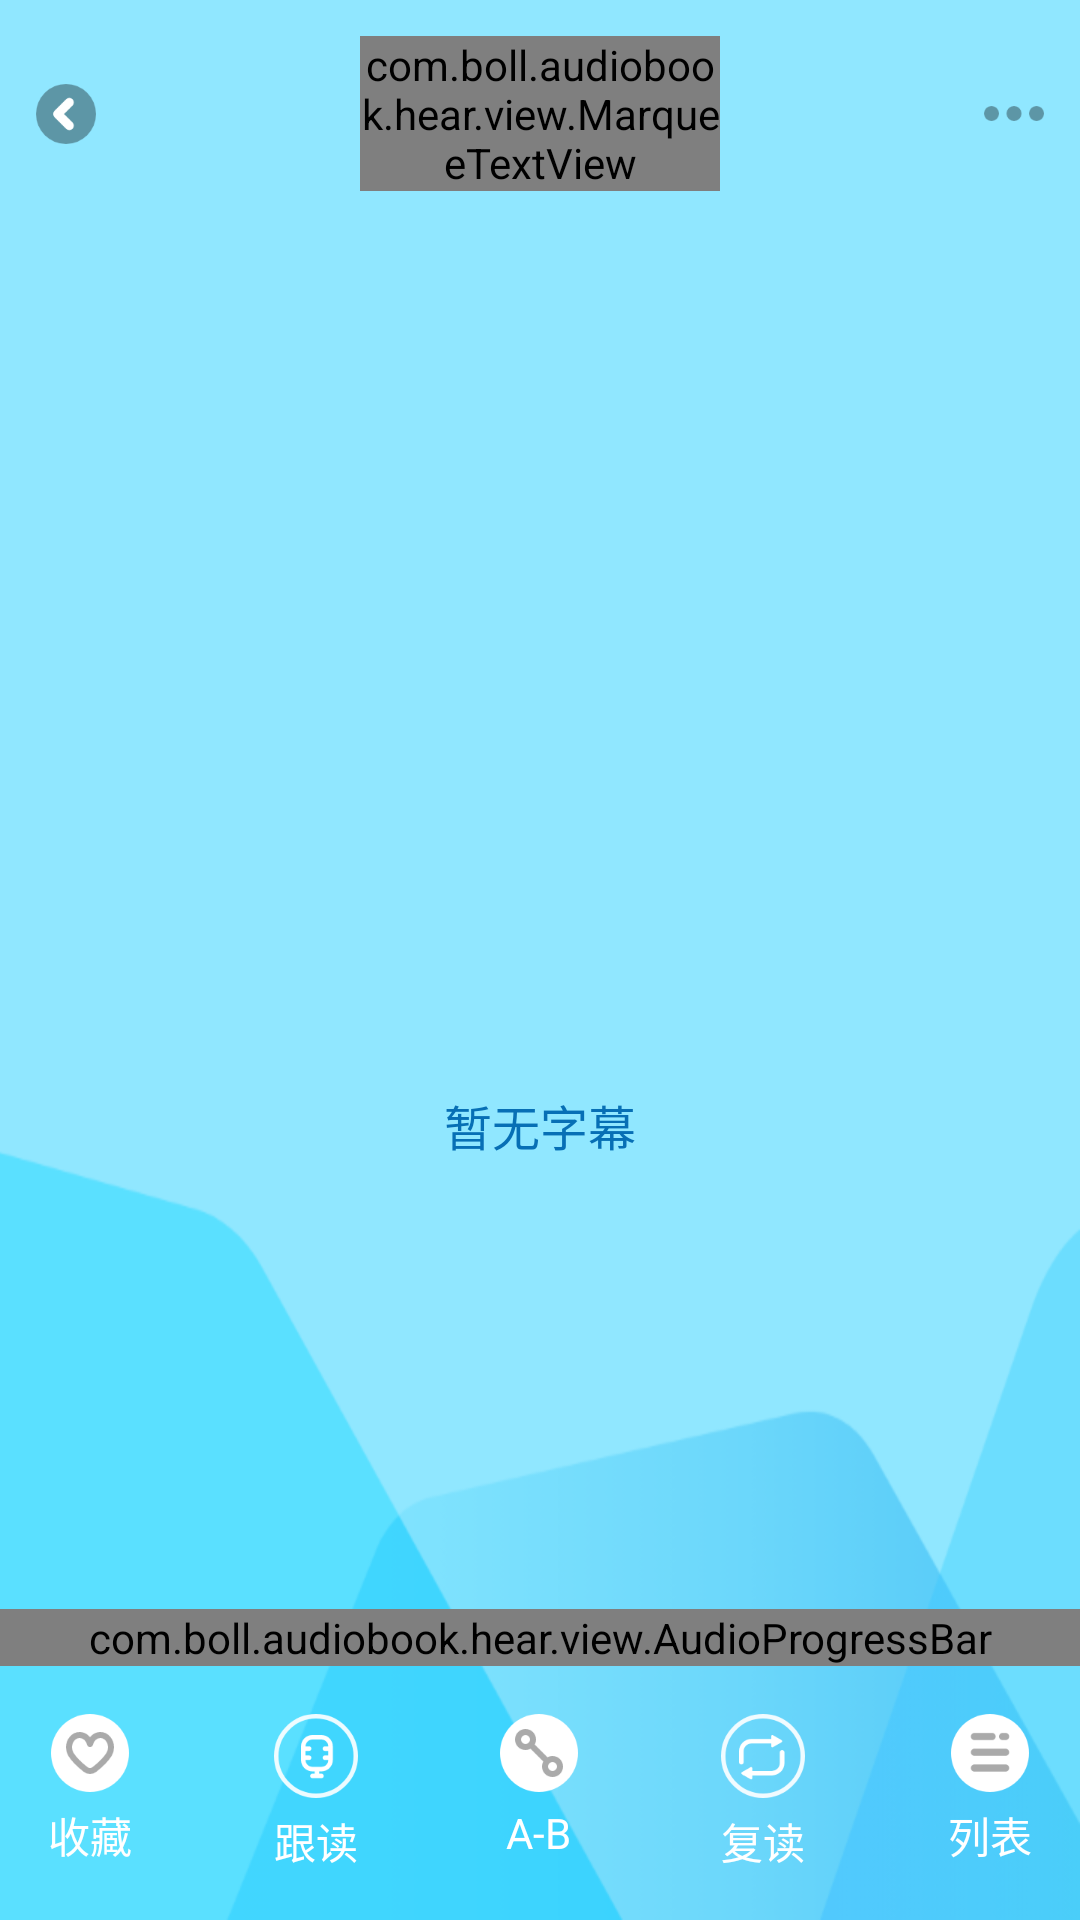

Point at icon controls on the screen. Image size 1080w x 1920h, points as (x,y).
back: (66,114)
setting: (1014,113)
single: (763,1756)
